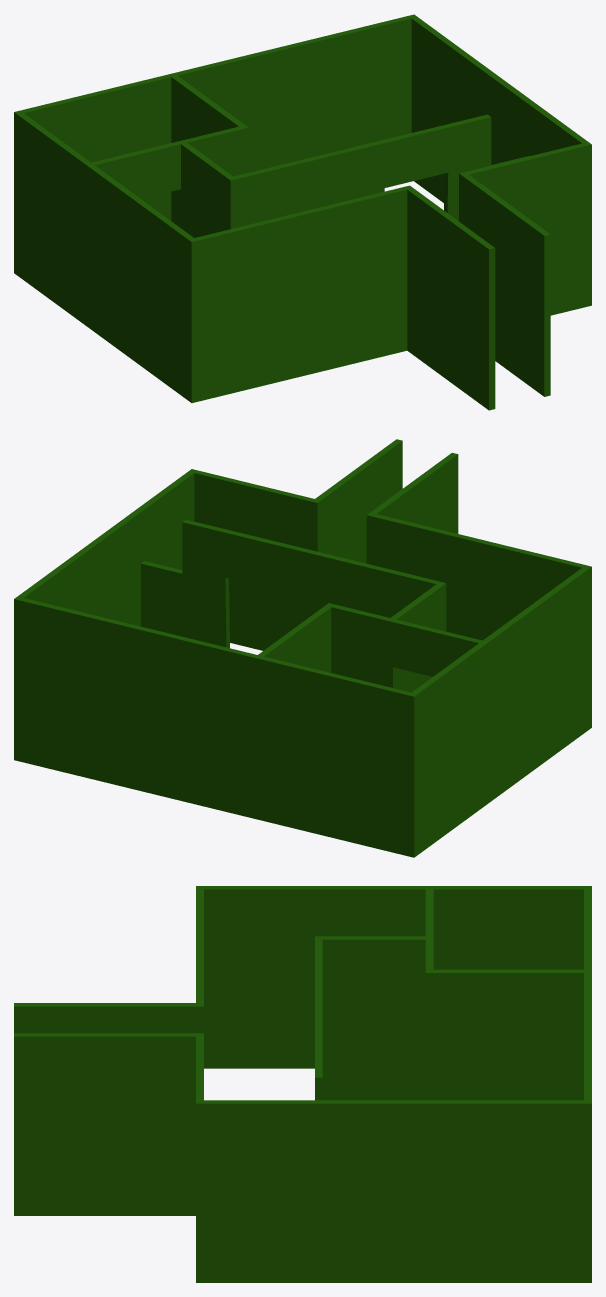
The model's file is Basement.fbx.
3 renders of one model, top to bottom at view 1: azimuth 30°, elevation 25°; view 2: azimuth 150°, elevation 25°; view 3: azimuth 270°, elevation 25°, orthographic. The views are drawn at different scales.
Visible parts, largest first — view 1: Basement; view 2: Basement; view 3: Basement.
Part boxes in pixels (x1,y1,x2,y2): Basement: [14, 14, 591, 410]; Basement: [14, 439, 591, 857]; Basement: [14, 886, 591, 1282].
Size of the model in its own units: 650 by 250 by 730.
